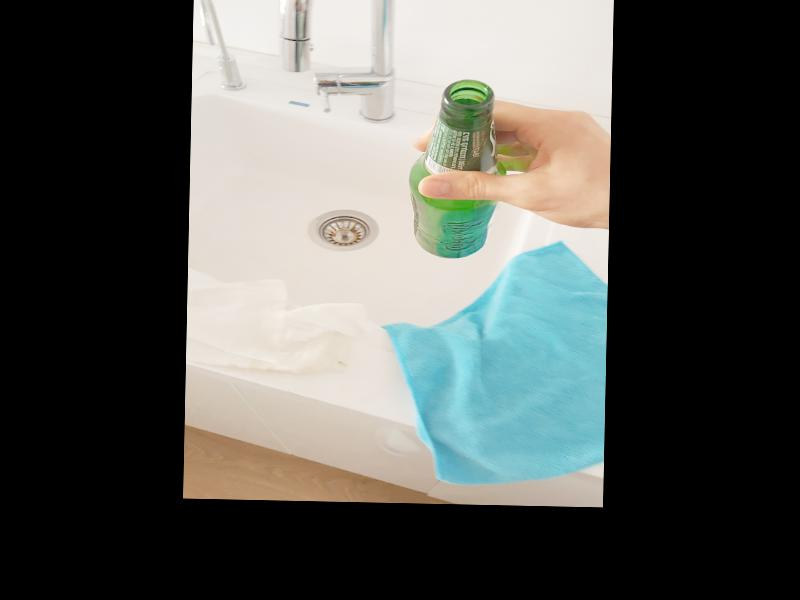Beer: (406, 78, 506, 260)
